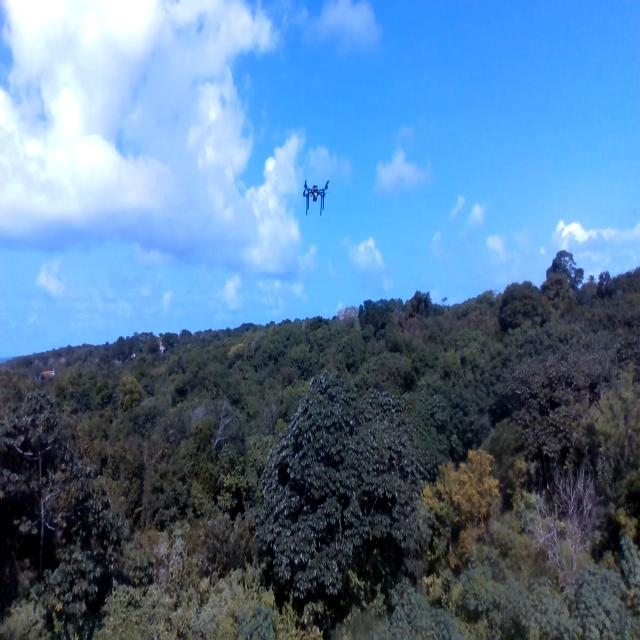-uav-: (296, 172, 334, 221)
